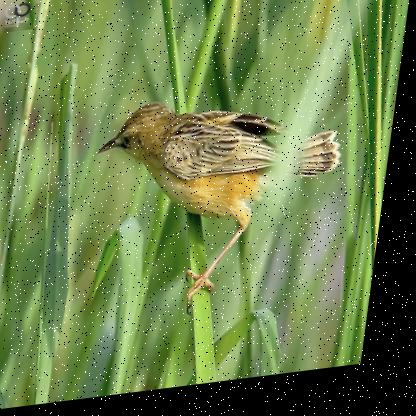Burung: (84, 86, 356, 331)
